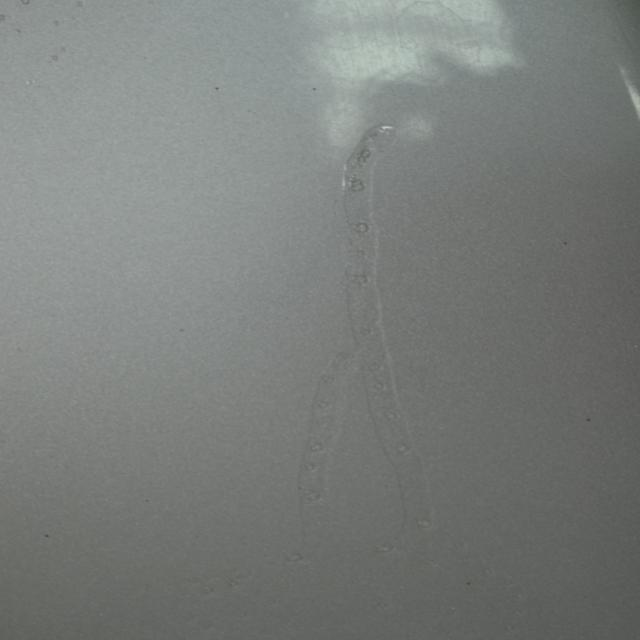dirt: (43, 531, 51, 539), (463, 580, 472, 587), (310, 86, 319, 92), (585, 417, 594, 422), (213, 86, 222, 91)
runs: (293, 124, 436, 577), (0, 0, 89, 73)
